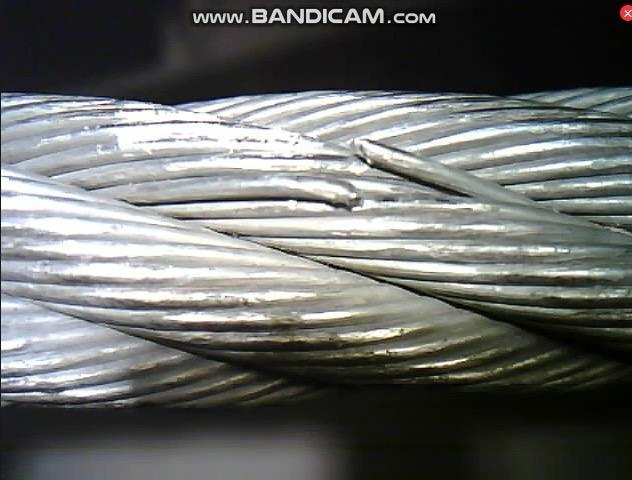break: (308, 128, 390, 214)
